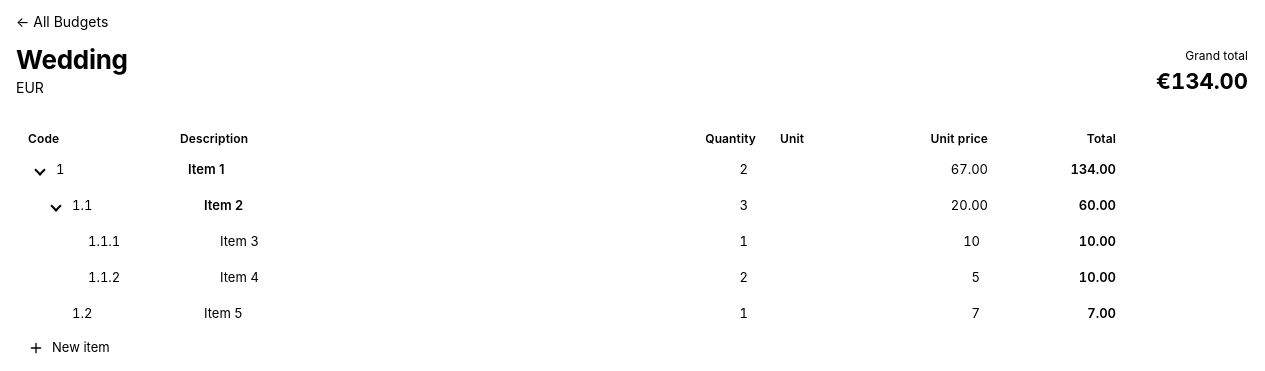
Test: inline editing › commits a Quantity on Enter, refreshing roll-ups at once, as one command
The width and height of the screenshot is (1265, 371).
Replace the text in the 5th field named "Quantity 1.1" with "4". click: [716, 206]
box: [676,192,756,220]
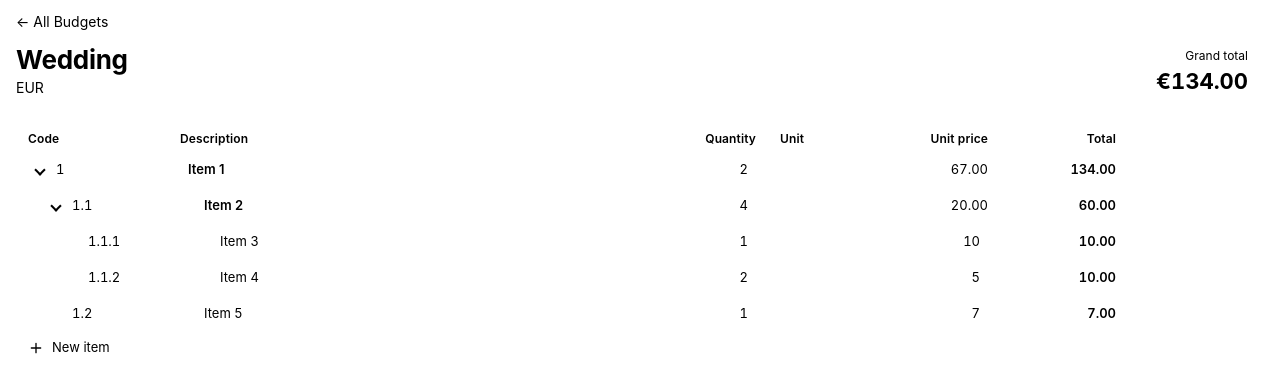
Press Enter
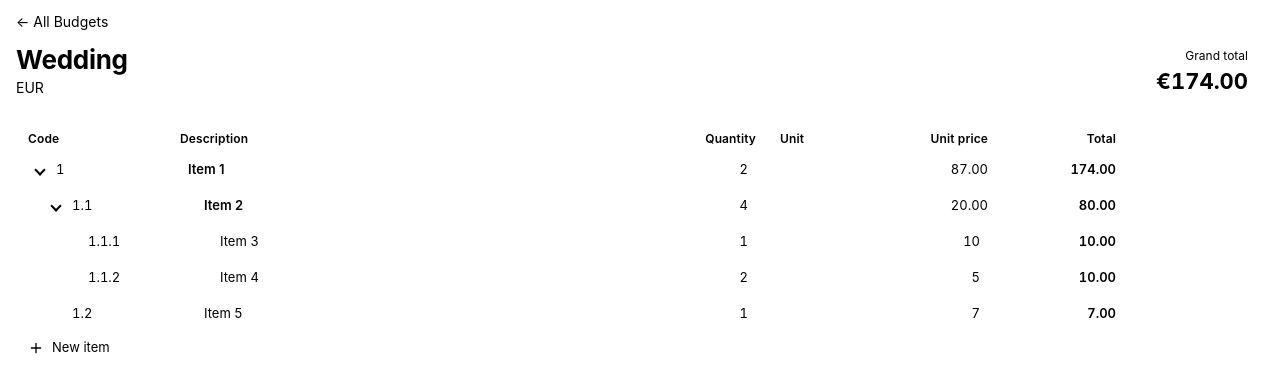
expect the text named "Grand total" reads "€174.00": met, box [1156,68,1248,94]
